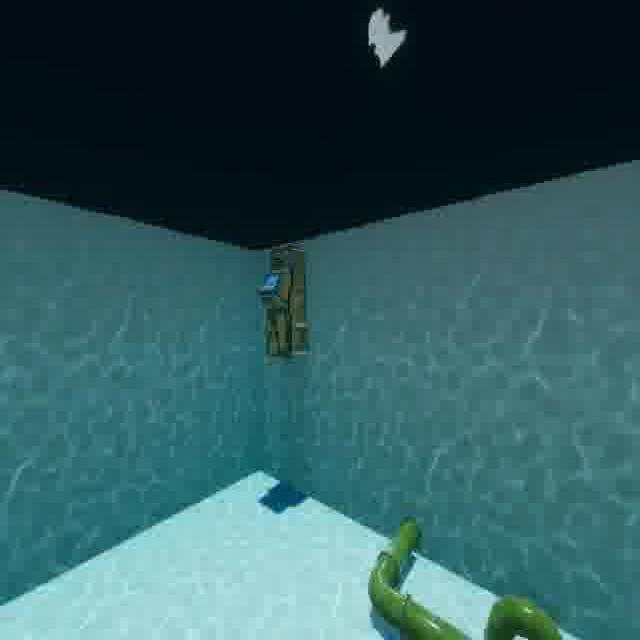Control Panel: (251, 237, 313, 367)
Pipe: (358, 497, 574, 640)
